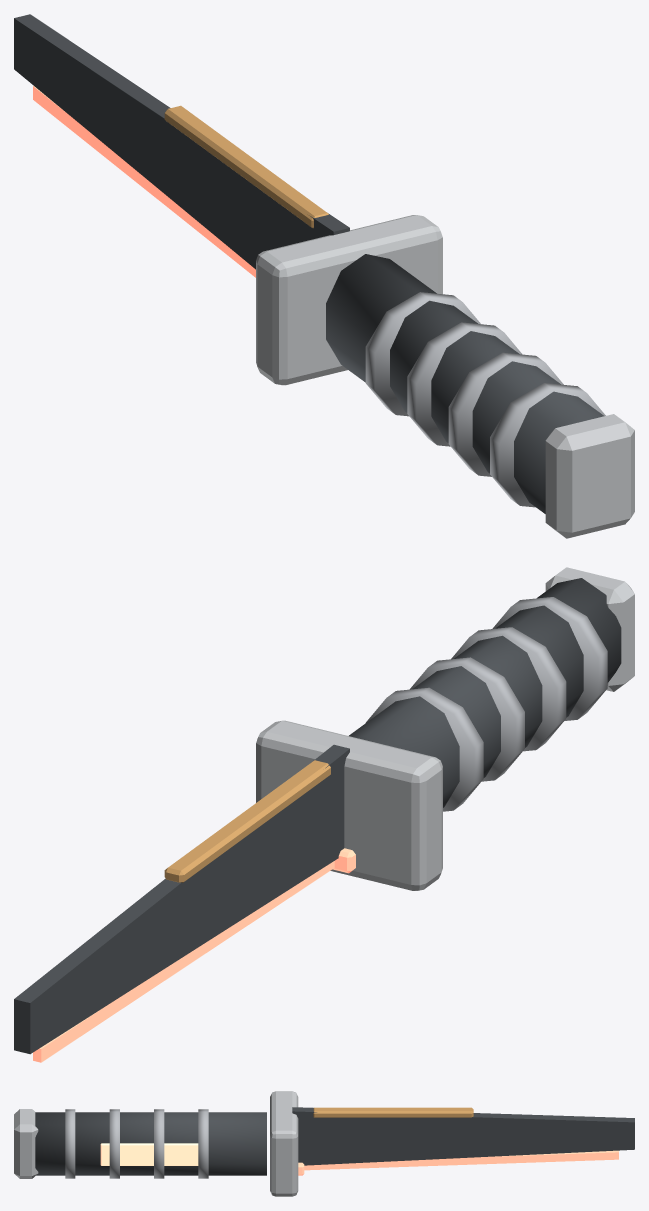
File: energo_nuz.glb
3 renders of one model, top to bottom at view 1: azimuth 30°, elevation 25°; view 2: azimuth 150°, elevation 25°; view 3: azimuth 270°, elevation 25°, orthographic. The views are drawn at different scales.
Parts seen in each view (by area): view 1: Energo_nuz; view 2: Energo_nuz; view 3: Energo_nuz.
Boxes of the visible parts, left/top/right/bottom form: Energo_nuz: left=14, top=14, right=634, bottom=538; Energo_nuz: left=14, top=567, right=634, bottom=1062; Energo_nuz: left=14, top=1091, right=634, bottom=1196.
Size of the model in its own units: 0.052 by 0.037 by 0.308.
